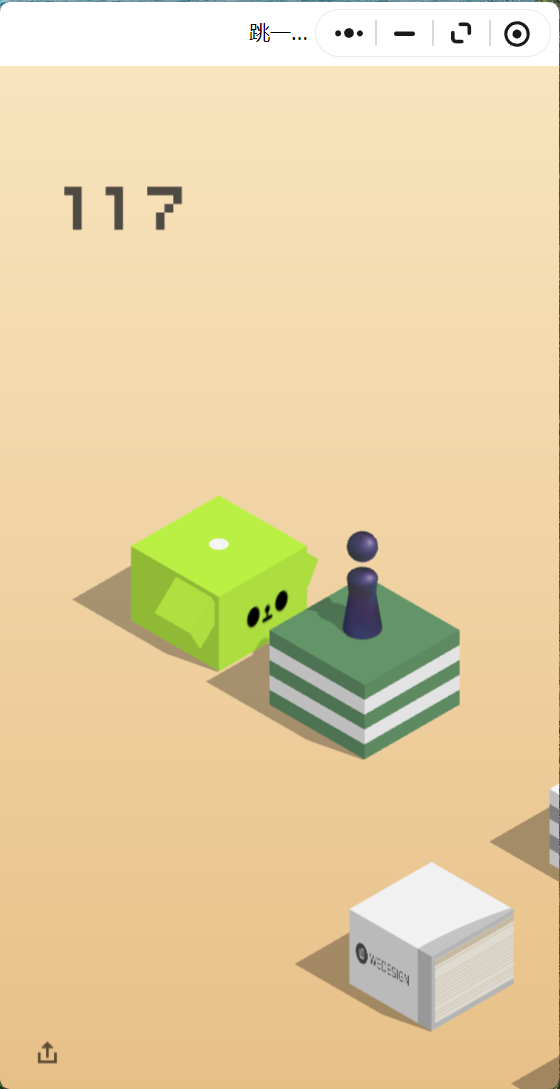piece: (347, 531, 378, 636)
target: (131, 495, 308, 595)
